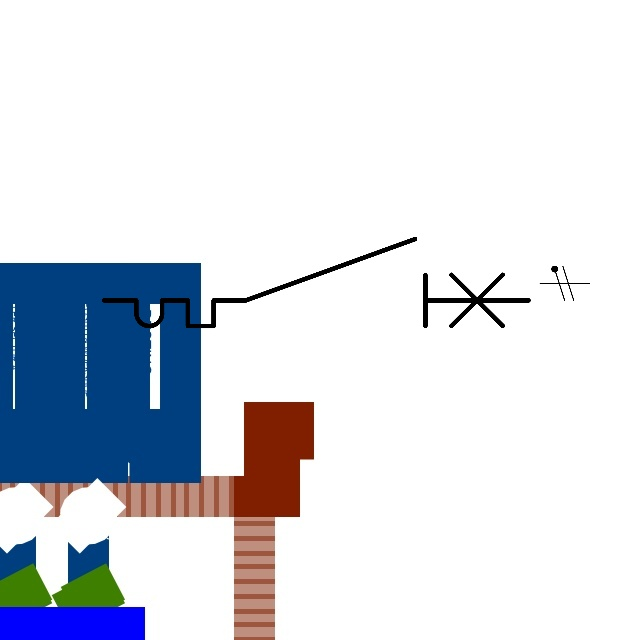interruptor_termomagnetico: (93, 228, 539, 337)
